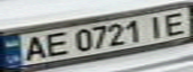0: (72, 26, 93, 53)
1: (121, 17, 148, 43)
2: (106, 20, 127, 47)
7: (90, 22, 112, 50)
A: (18, 34, 51, 63)
E: (157, 9, 193, 37), (39, 29, 72, 58)
I: (142, 12, 172, 39)
